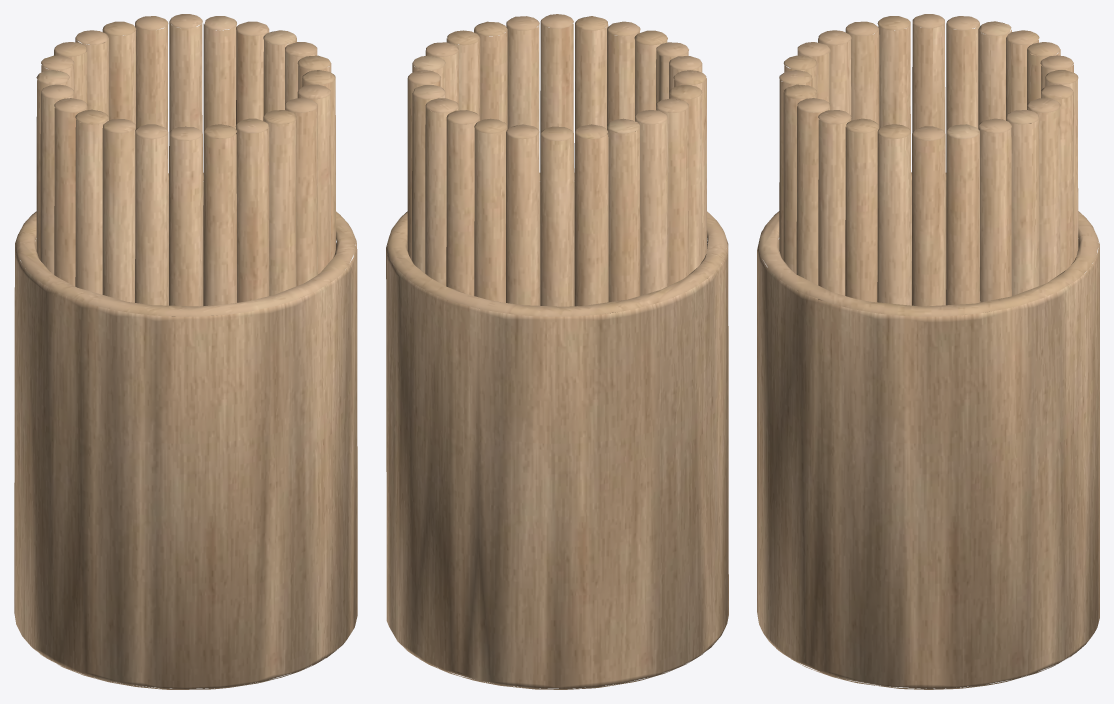
File: cylindra_dama_bily.glb
3 renders of one model, left to right at view 1: azimuth 30°, elevation 25°; view 2: azimuth 150°, elevation 25°; view 3: azimuth 270°, elevation 25°, orthographic.
Parts seen in each view (by area): view 1: Cylindra_Dáma_bílý; view 2: Cylindra_Dáma_bílý; view 3: Cylindra_Dáma_bílý.
Boxes of the visible parts, x1,y1,x2,y2 form: Cylindra_Dáma_bílý: [14, 14, 357, 689]; Cylindra_Dáma_bílý: [386, 14, 728, 689]; Cylindra_Dáma_bílý: [757, 14, 1099, 689].
Size of the model in its own units: 0.032 by 0.0559 by 0.0319.
2 materials, 2 textured.
